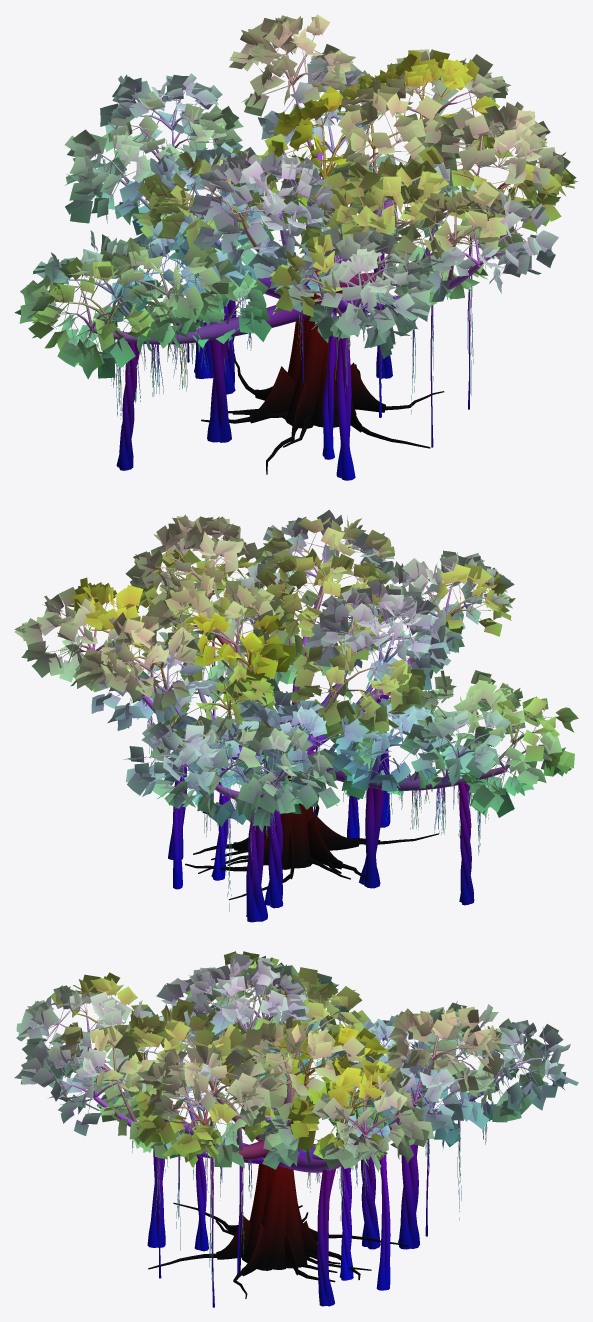
Rendered from banyan_placeholder.glb.
3 renders of one model, top to bottom at view 1: azimuth 30°, elevation 25°; view 2: azimuth 150°, elevation 25°; view 3: azimuth 270°, elevation 25°, orthographic. The views are drawn at different scales.
Visible parts, largest first — view 1: banyan_placeholder; view 2: banyan_placeholder; view 3: banyan_placeholder.
Boxes of the visible parts, x1=… form: banyan_placeholder: x1=14, y1=14, x2=578, y2=480; banyan_placeholder: x1=14, y1=509, x2=578, y2=922; banyan_placeholder: x1=14, y1=951, x2=578, y2=1307.
Size of what is drawn, in the model's own units: 25.95 by 14.57 by 26.26.
